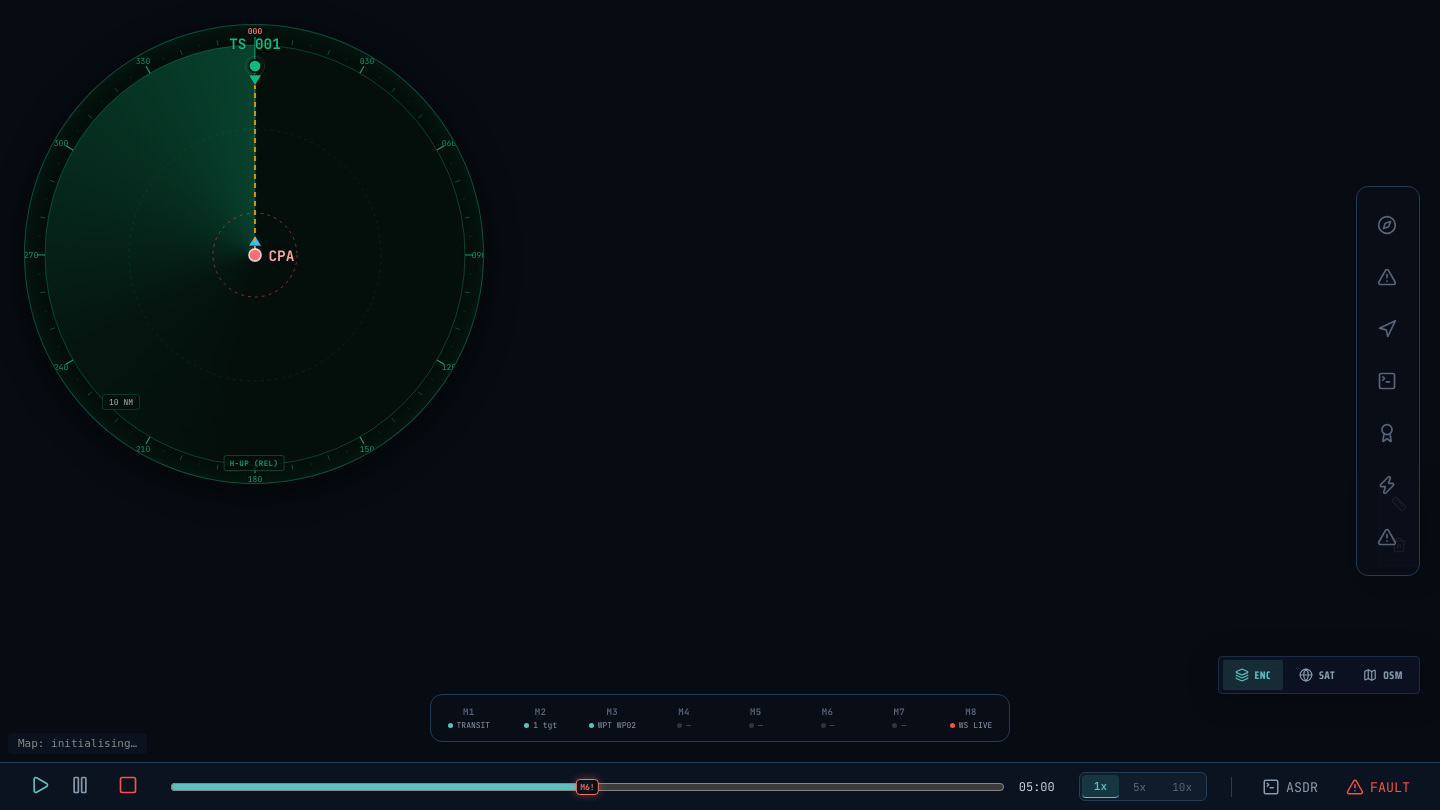
Test: SimulationMonitor › renders one stable threat target list with backend risk badge per target
Click the button with test id "right-tab-threat": [1388, 277] box [1366,255,1410,299]
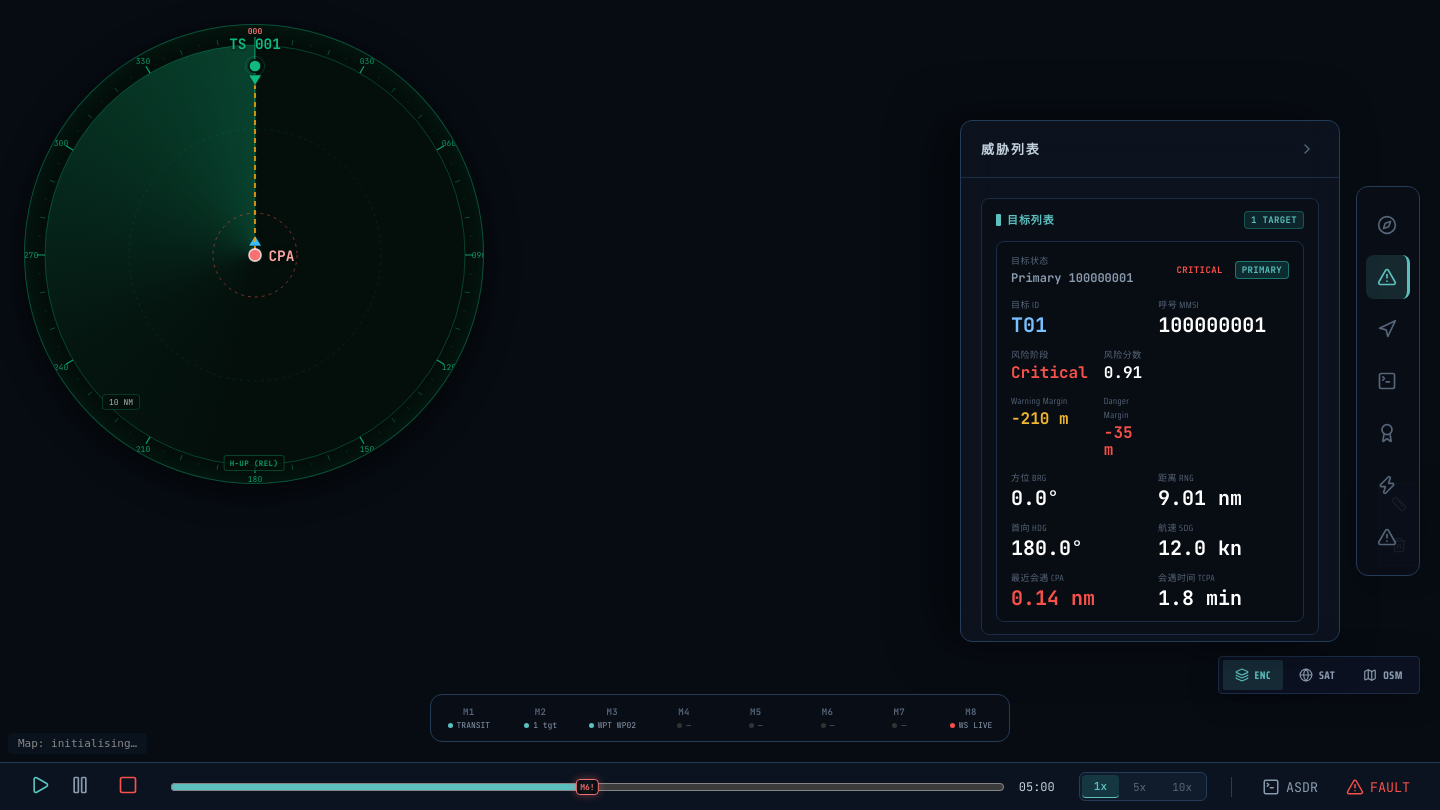
Now the text "目标列表" is shown, box [1007,211,1054,229]
Now the text "1 TARGET" is shown, box [1244,211,1304,229]
Now the text "CRITICAL" is shown, box [1177,264,1223,276]
